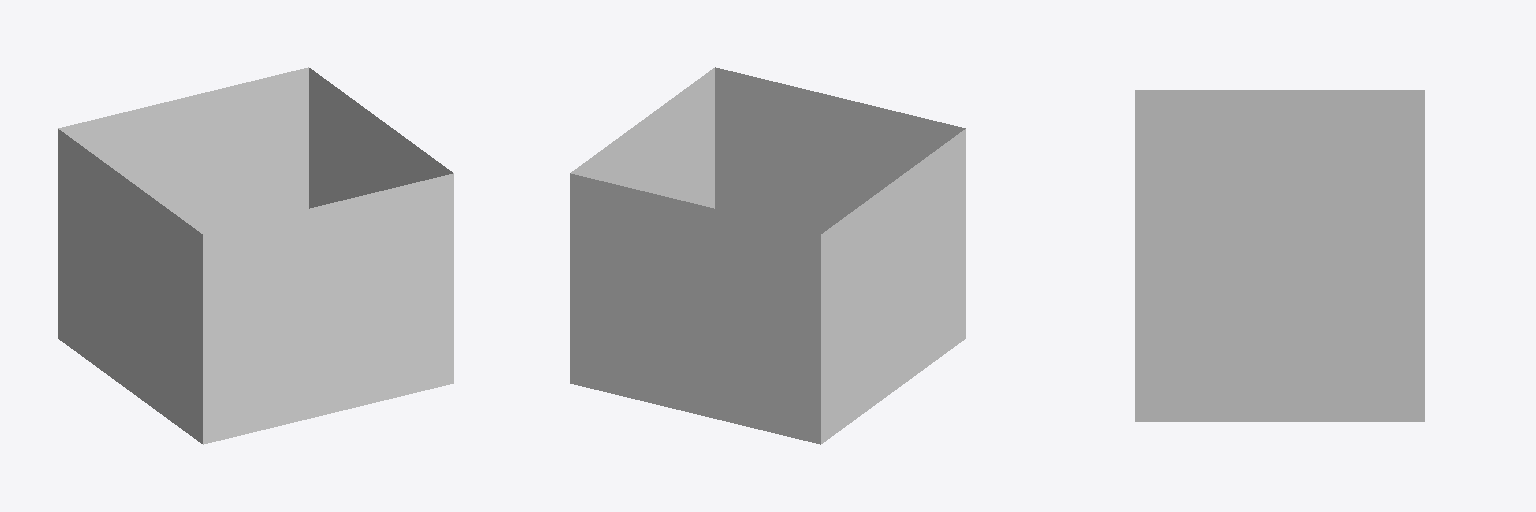
3 renders of one model, left to right at view 1: azimuth 30°, elevation 25°; view 2: azimuth 150°, elevation 25°; view 3: azimuth 270°, elevation 25°, orthographic.
Visible parts, largest first — view 1: Cube; view 2: Cube; view 3: Cube.
Boxes of the visible parts, box(x1,y1,x2,y2) form: Cube: box(58, 67, 453, 444); Cube: box(570, 67, 965, 444); Cube: box(1135, 90, 1424, 421).
Bounding box in the file's own units: 20 × 16 × 20.
1 materials, 1 textured.